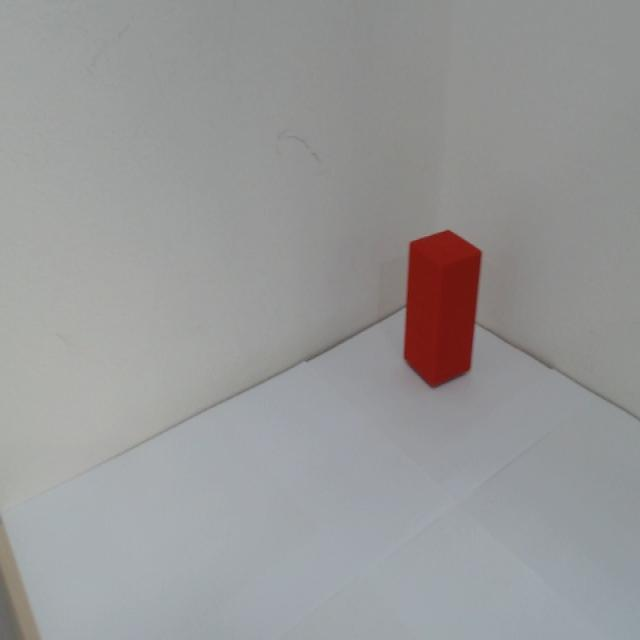cube: (395, 222, 485, 396)
